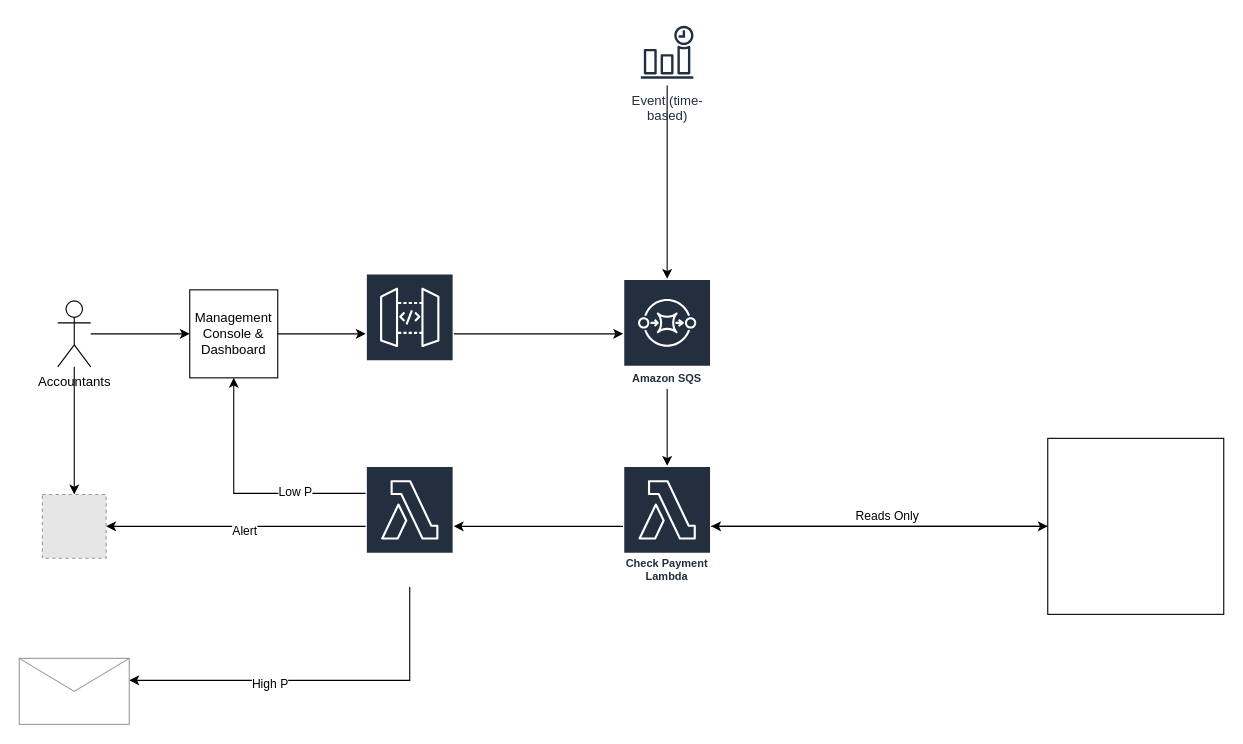
This 1243x744 diagram has some shape labels left out. Grey dashed boxes stand in for pictures. The centre of each missing label's shape, as x and y in pixels:
Amazon API Gateway: (x=409, y=333)
External Financial System: (x=1135, y=525)
Notification Lambda: (x=409, y=526)
